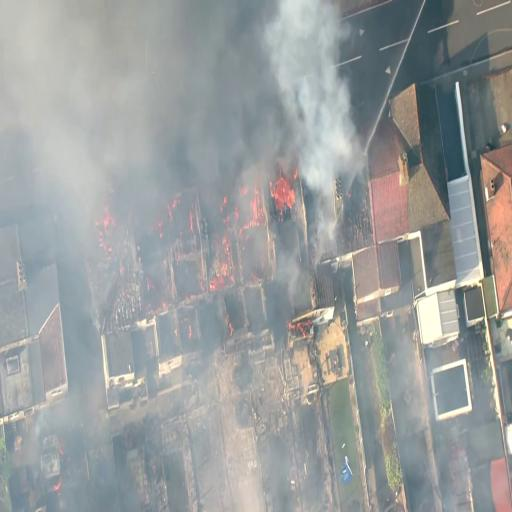fire: (206, 242, 234, 311), (264, 166, 292, 213)
smoke: (268, 1, 353, 154)
